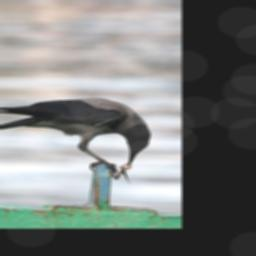Crow: (0, 96, 151, 173)
